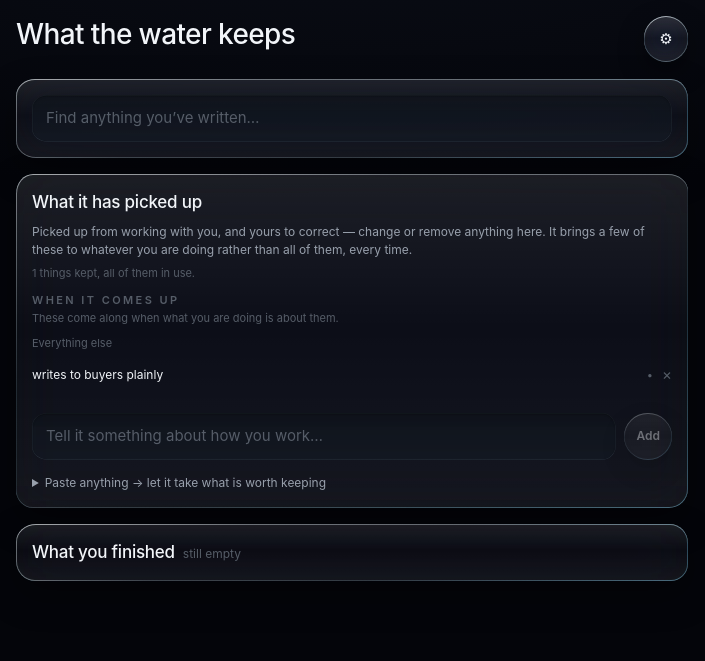
Test case: the page shows its own claim being kept › says when it was last actually needed, once you ask
Expected: the text "last used today" is not shown
Click the button "writes to buyers plainly" at (98, 374), box [32,355,639,395]
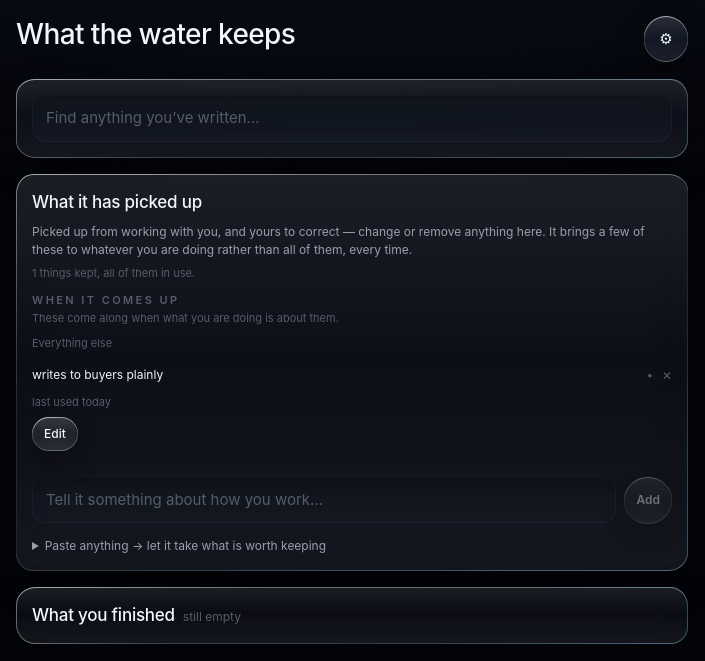
Expected: the text "last used today" is shown, [32,395,111,409]
